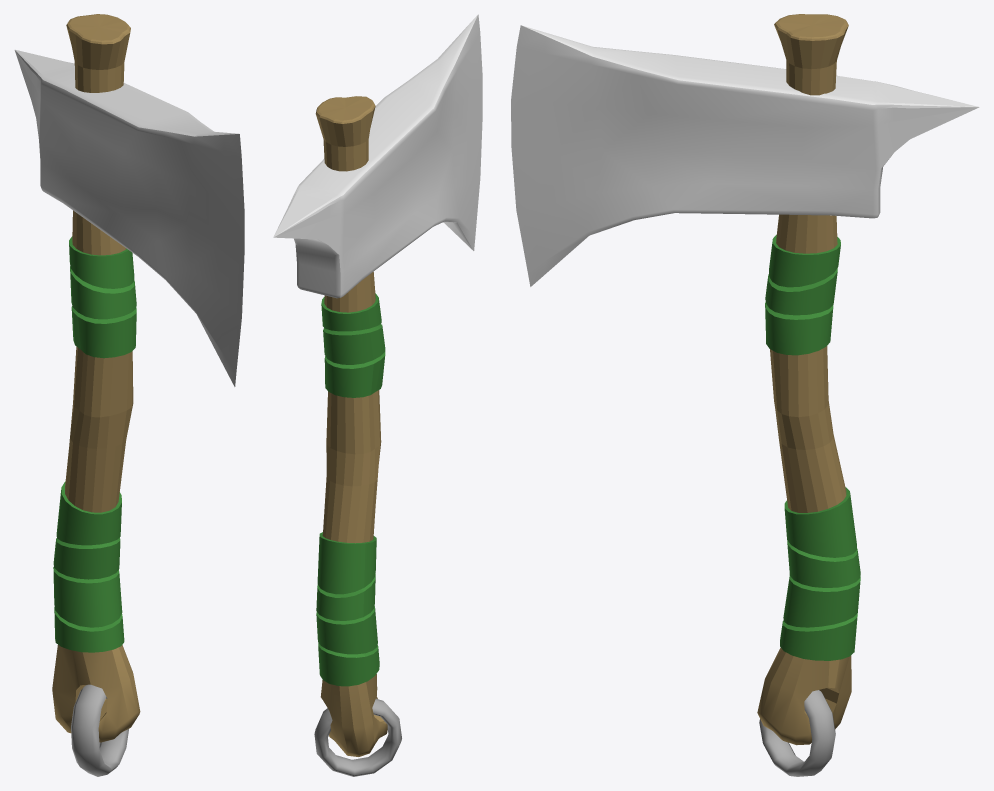
Rendered from Axe_Top.fbx.
3 renders of one model, left to right at view 1: azimuth 30°, elevation 25°; view 2: azimuth 150°, elevation 25°; view 3: azimuth 270°, elevation 25°, orthographic. The views are drawn at different scales.
Visible parts, largest first — view 1: Axe_Top; view 2: Axe_Top; view 3: Axe_Top.
Part boxes in pixels (left/top/right/bottom): Axe_Top: left=14, top=14, right=244, bottom=776; Axe_Top: left=273, top=14, right=482, bottom=776; Axe_Top: left=511, top=14, right=979, bottom=776.
Size of the model in its own units: 7.45 by 72.67 by 41.06.
